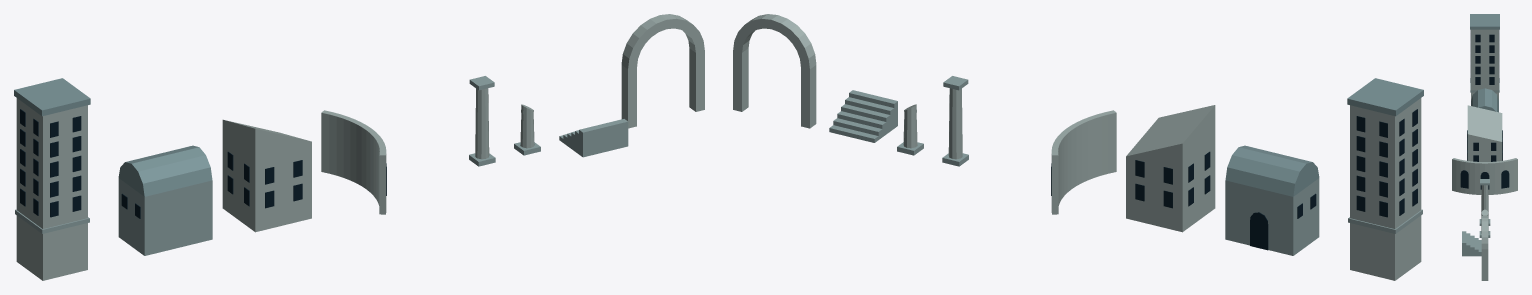
File: city.glb
3 views of the same model, side by side, from view 1: azimuth 30°, elevation 25°; view 2: azimuth 150°, elevation 25°; view 3: azimuth 270°, elevation 25° (orthographic). The views are drawn at different scales.
Parts seen in each view (by area): view 1: bldg_tower, bldg_vault, bldg_ruin, wall_curve, arch_gate, stairs, pillar, pillar_broken; view 2: bldg_tower, bldg_ruin, bldg_vault, wall_curve, arch_gate, stairs, pillar, pillar_broken; view 3: bldg_tower, wall_curve, bldg_ruin, arch_gate, bldg_vault, stairs, pillar, pillar_broken.
Part boxes in pixels (left/top/right/bottom): bldg_tower: left=14, top=78, right=90, bottom=280; bldg_vault: left=118, top=145, right=212, bottom=255; bldg_ruin: left=222, top=119, right=311, bottom=232; wall_curve: left=321, top=110, right=386, bottom=214; arch_gate: left=621, top=14, right=704, bottom=128; stairs: left=559, top=119, right=628, bottom=157; pillar: left=469, top=76, right=495, bottom=166; pillar_broken: left=514, top=104, right=540, bottom=155; bldg_tower: left=1347, top=78, right=1423, bottom=280; bldg_ruin: left=1126, top=105, right=1215, bottom=232; bldg_vault: left=1225, top=145, right=1319, bottom=255; wall_curve: left=1051, top=110, right=1116, bottom=214; arch_gate: left=733, top=14, right=816, bottom=128; stairs: left=829, top=90, right=897, bottom=142; pillar: left=942, top=76, right=968, bottom=166; pillar_broken: left=897, top=104, right=923, bottom=155; bldg_tower: left=1470, top=14, right=1499, bottom=100; wall_curve: left=1452, top=158, right=1517, bottom=194; bldg_ruin: left=1467, top=105, right=1502, bottom=161; arch_gate: left=1481, top=215, right=1488, bottom=280; bldg_vault: left=1471, top=88, right=1498, bottom=112; stairs: left=1462, top=231, right=1481, bottom=256; pillar: left=1479, top=179, right=1490, bottom=225; pillar_broken: left=1479, top=209, right=1490, bottom=237.
Bounding box in the file's own units: 59.55 × 14.5 × 9.46.
